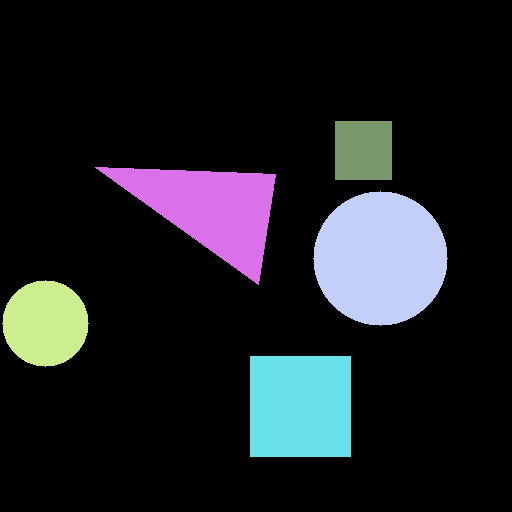circle: (313, 191, 447, 325), (2, 280, 88, 366)
square: (250, 356, 350, 456), (335, 121, 391, 179)
triangle: (95, 167, 275, 284)
